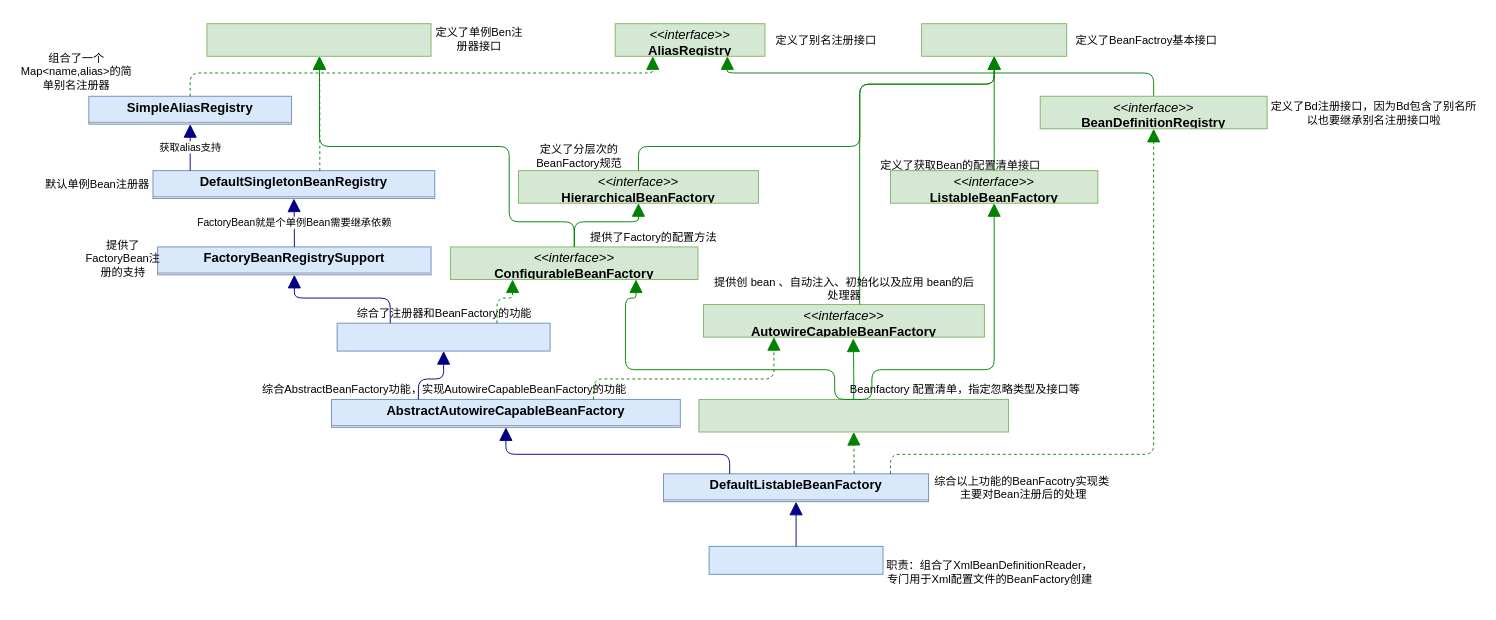
Image size: 1496x620. Some labels were removed from this diagram. Here are the shapes that lost their labels. From the top down, the centre of each, then its label:
the point at 318,39: <<interface>> SingletonBeanRegistry
the point at 994,39: <<interface>> BeanFactory
the point at 443,336: AbstractBeanFactory
the point at 853,415: <<interface>> ConfigurableListableBeanFactory
the point at 795,559: XmlBeanFactory
